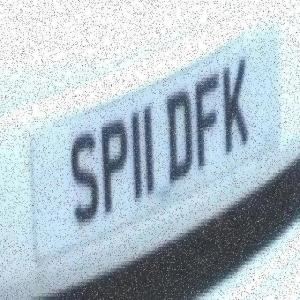Plate: (29, 16, 290, 256)
